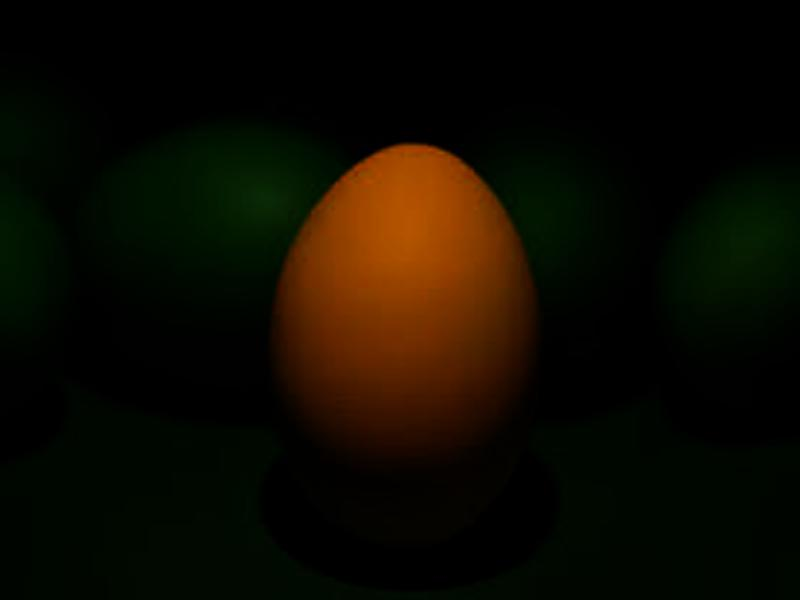Eggs: (267, 144, 543, 551)
